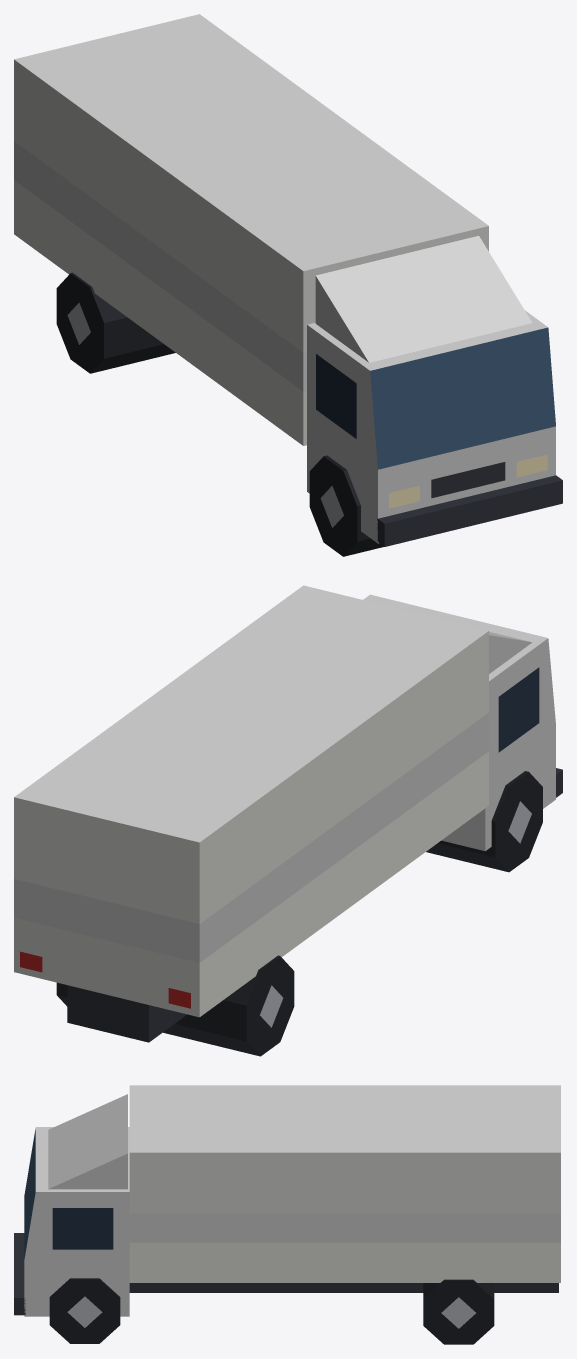
The model's file is prop_truck.glb.
3 renders of one model, top to bottom at view 1: azimuth 30°, elevation 25°; view 2: azimuth 150°, elevation 25°; view 3: azimuth 270°, elevation 25°, orthographic. The views are drawn at different scales.
Parts seen in each view (by area): view 1: prop_truck; view 2: prop_truck; view 3: prop_truck.
Part boxes in pixels (x1=…): prop_truck: x1=14, y1=14, x2=562, y2=556; prop_truck: x1=14, y1=585, x2=562, y2=1056; prop_truck: x1=14, y1=1085, x2=560, y2=1344.
Size of the model in its own units: 2.59 by 3.3 by 8.59.
